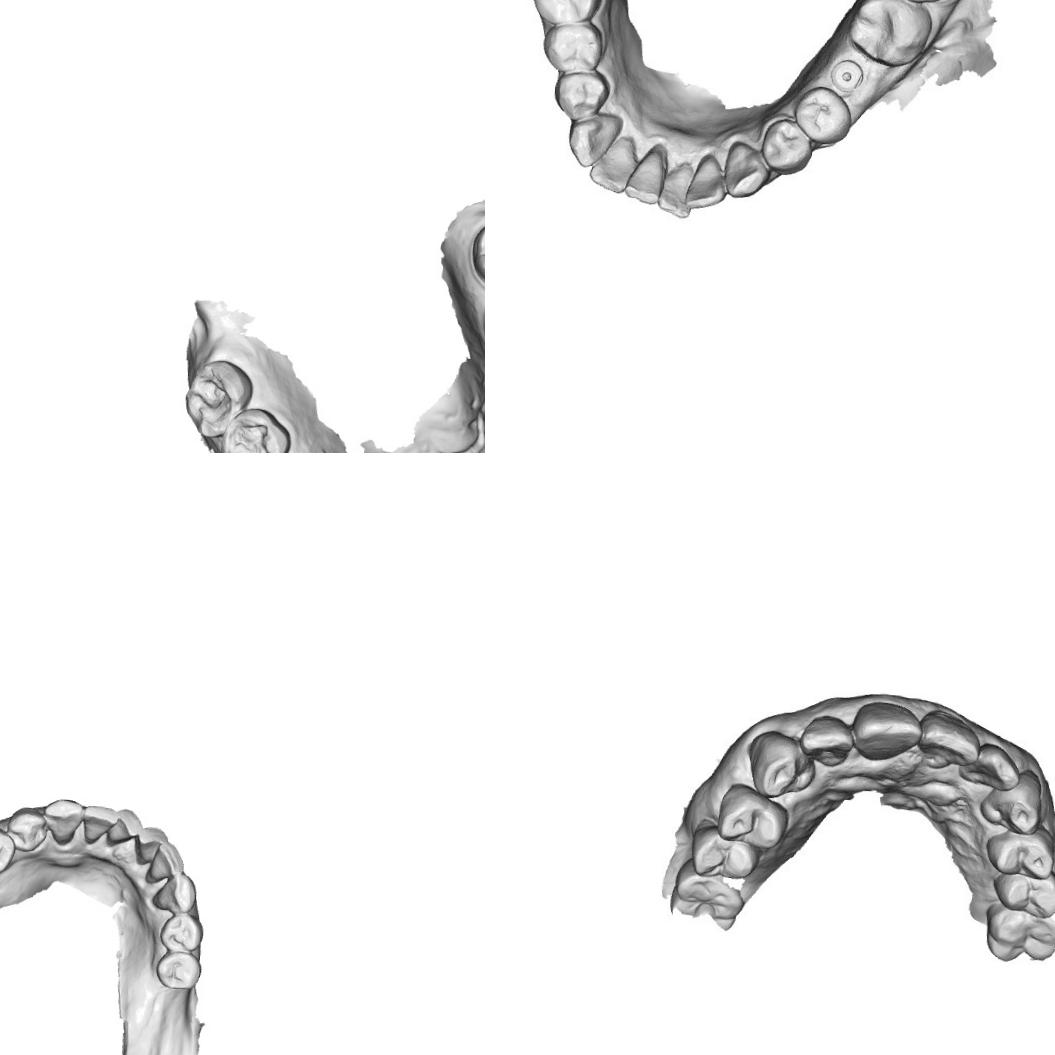canine: (742, 730, 821, 798), (976, 768, 1048, 834), (566, 106, 622, 170), (720, 138, 769, 200), (40, 794, 84, 848), (148, 869, 200, 914)
implant: (828, 57, 867, 95)
incisor: (850, 698, 919, 763), (915, 708, 979, 768), (956, 741, 1023, 792), (582, 136, 640, 194), (796, 712, 854, 766), (683, 153, 727, 212), (622, 146, 663, 209), (652, 161, 694, 221), (78, 802, 120, 846), (145, 838, 186, 882), (104, 805, 144, 848), (132, 823, 168, 864)
molar: (179, 356, 254, 441), (842, 0, 932, 66), (664, 857, 747, 927), (981, 904, 1055, 965), (213, 402, 294, 453), (528, 0, 605, 25), (467, 213, 485, 292)
premolar: (714, 780, 792, 851), (688, 820, 758, 884), (982, 826, 1055, 878), (540, 22, 605, 78), (549, 68, 613, 123), (790, 86, 850, 144), (759, 114, 812, 176), (988, 869, 1055, 918), (3, 804, 49, 854), (156, 910, 205, 954), (152, 950, 203, 992), (0, 824, 16, 875)
